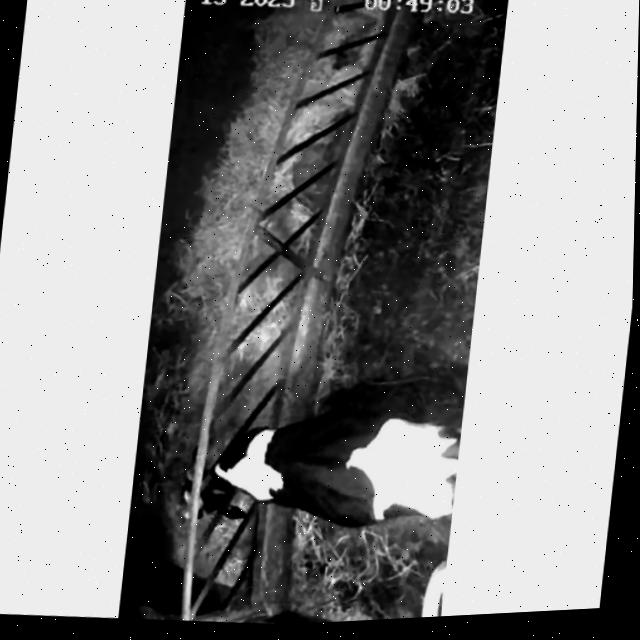eat: (152, 410, 315, 541)
